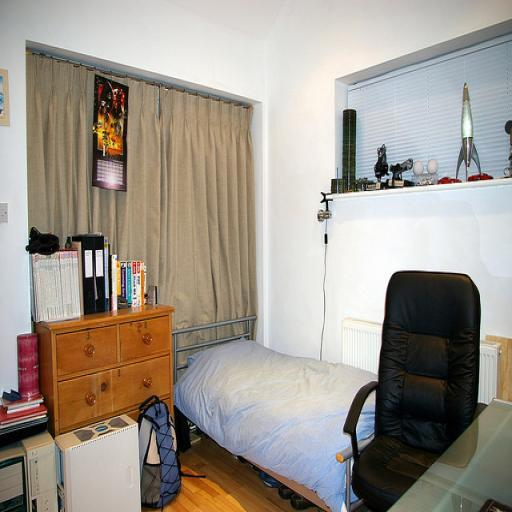bed: (176, 306, 383, 504)
